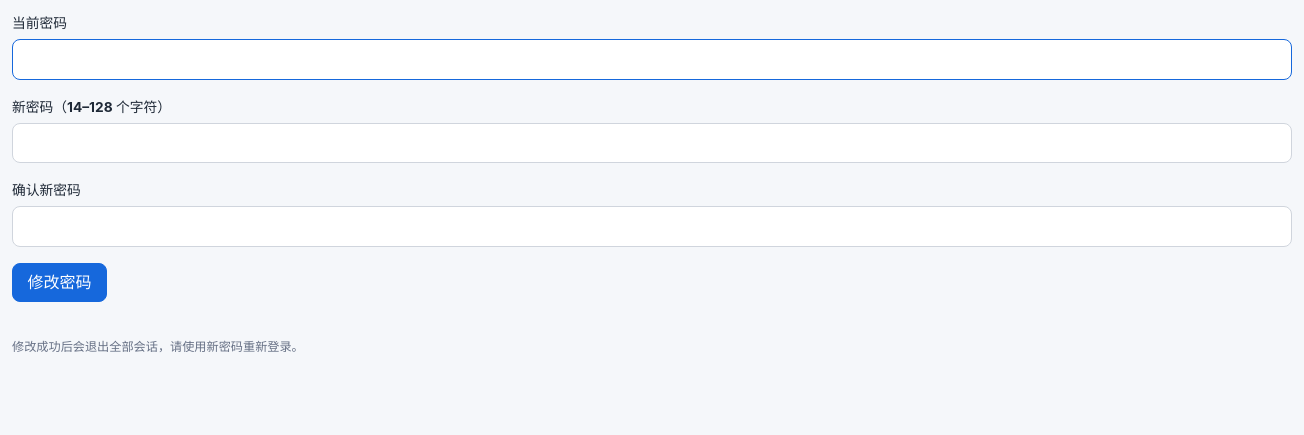
PasswordChange › keeps the authenticated view on deterministic CURRENT_PASSWORD_INVALID errors
Type "current-password-canary" into the password field labelled "当前密码" at [652, 59], box [12,39,1292,80]
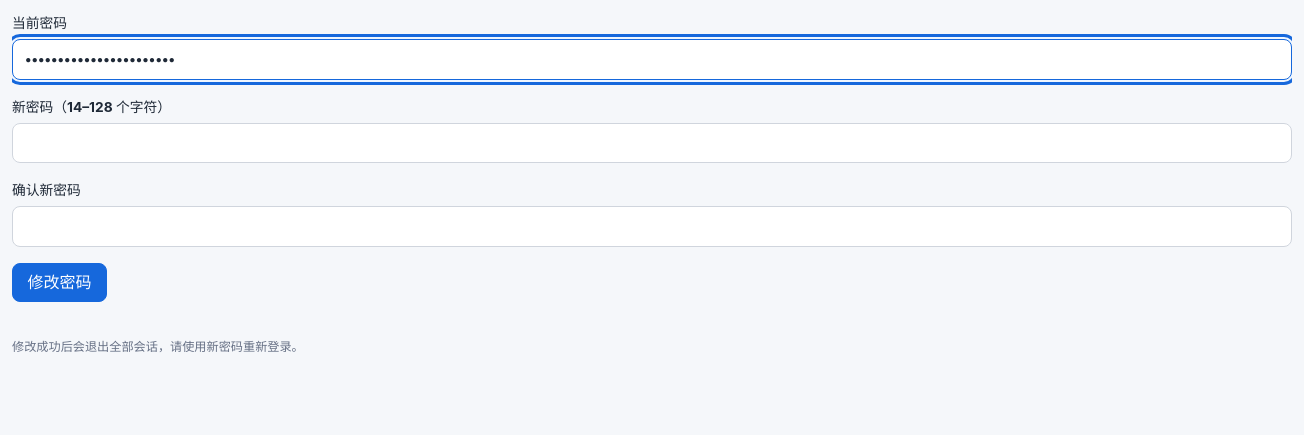
Type "new-password-canary" into the password field labelled "新密码（14–128 个字符）" at [652, 143], box [12,123,1292,163]
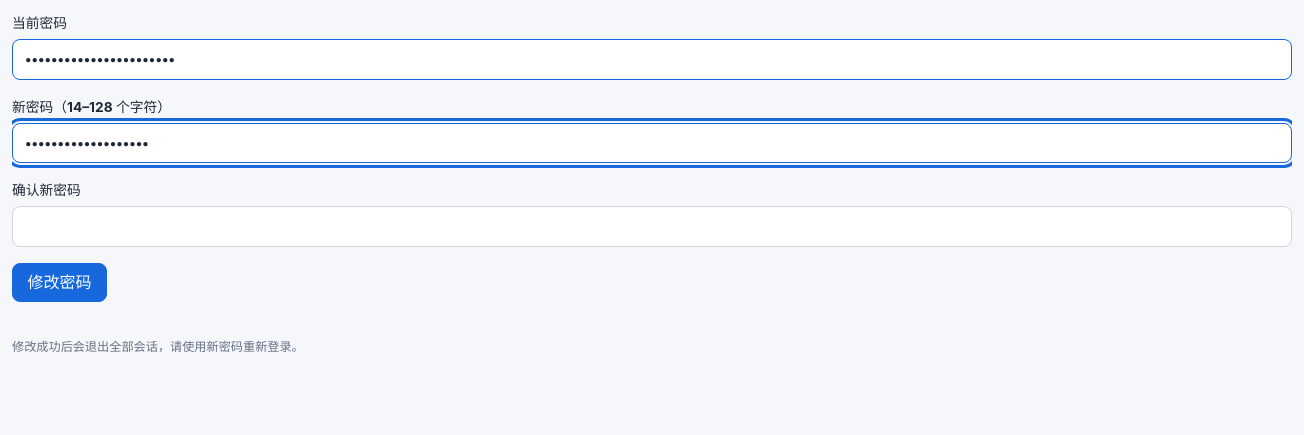
Type "new-password-canary" into the password field labelled "确认新密码" at [652, 226], box [12,206,1292,247]
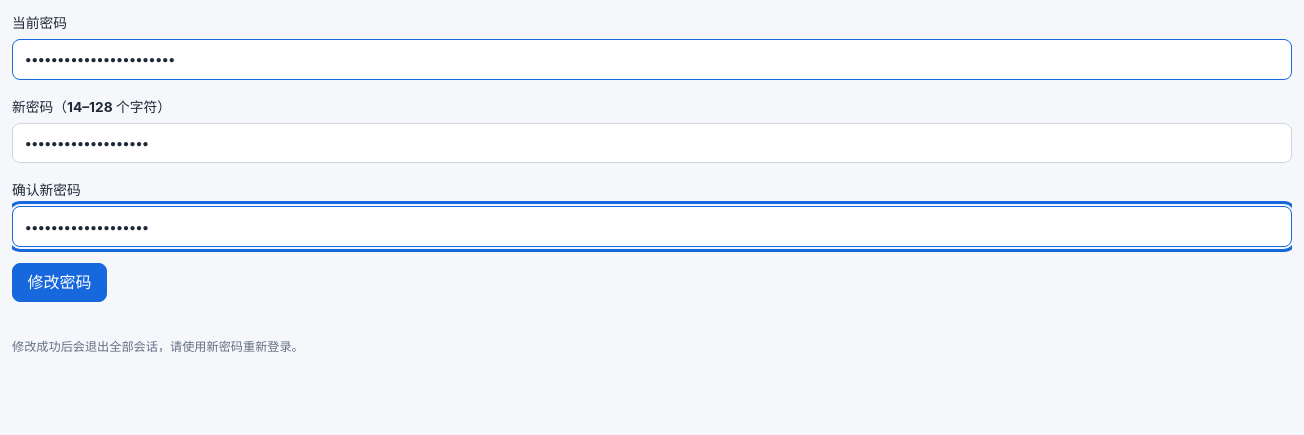
Click the button "修改密码" at [59, 283], box [12,263,107,302]
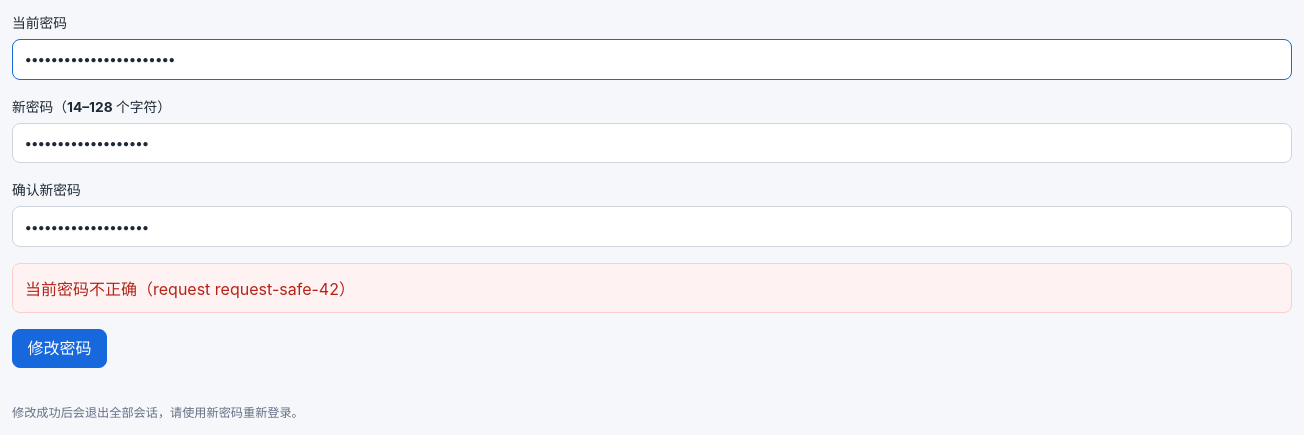
Expected: the message shows "当前密码不正确", [25,279,355,299]
Expected: the message shows "request-safe-42", [25,279,355,299]
